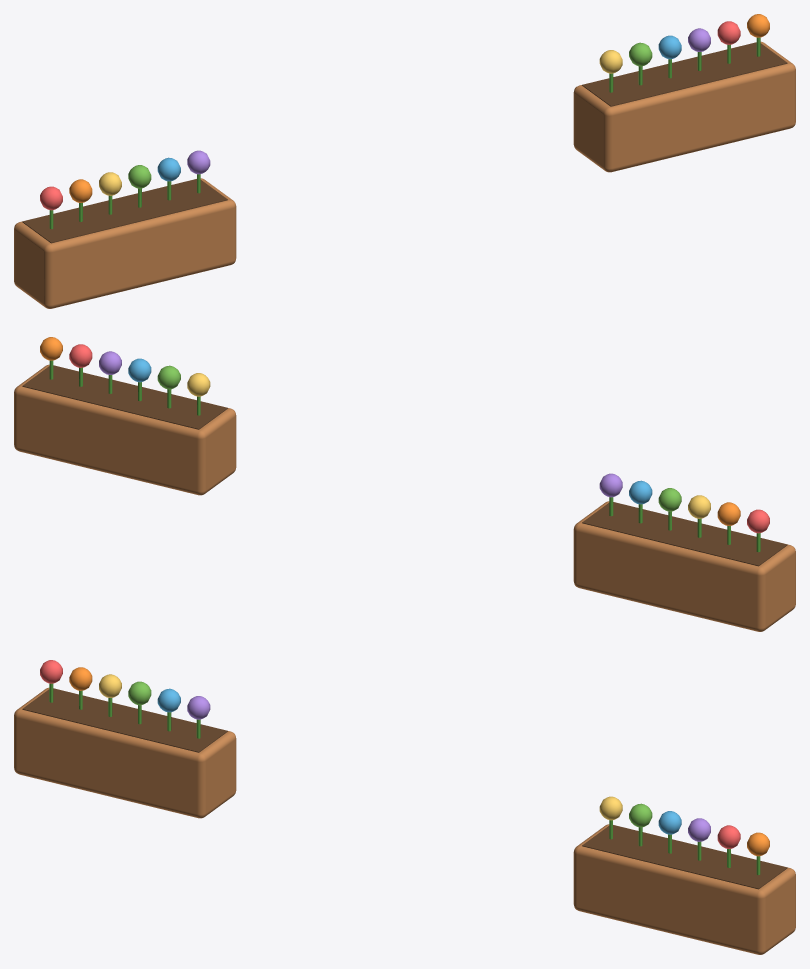
File: kbench-planter.glb
The picture shows the model from 3 angles, top to bottom: view 1: azimuth 30°, elevation 25°; view 2: azimuth 150°, elevation 25°; view 3: azimuth 330°, elevation 25°; orthographic projection.
Size of the model in its own units: 5.1 by 0.69 by 0.42.
